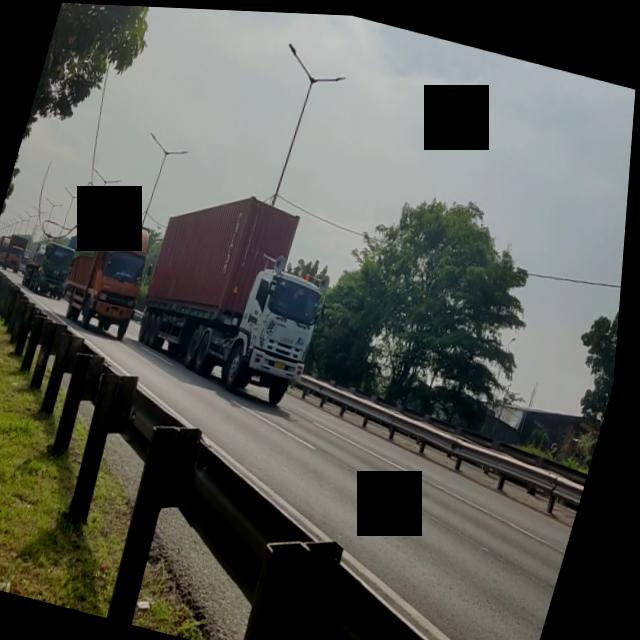Golongan II: (56, 210, 164, 345)
Golongan V: (127, 181, 351, 412)
